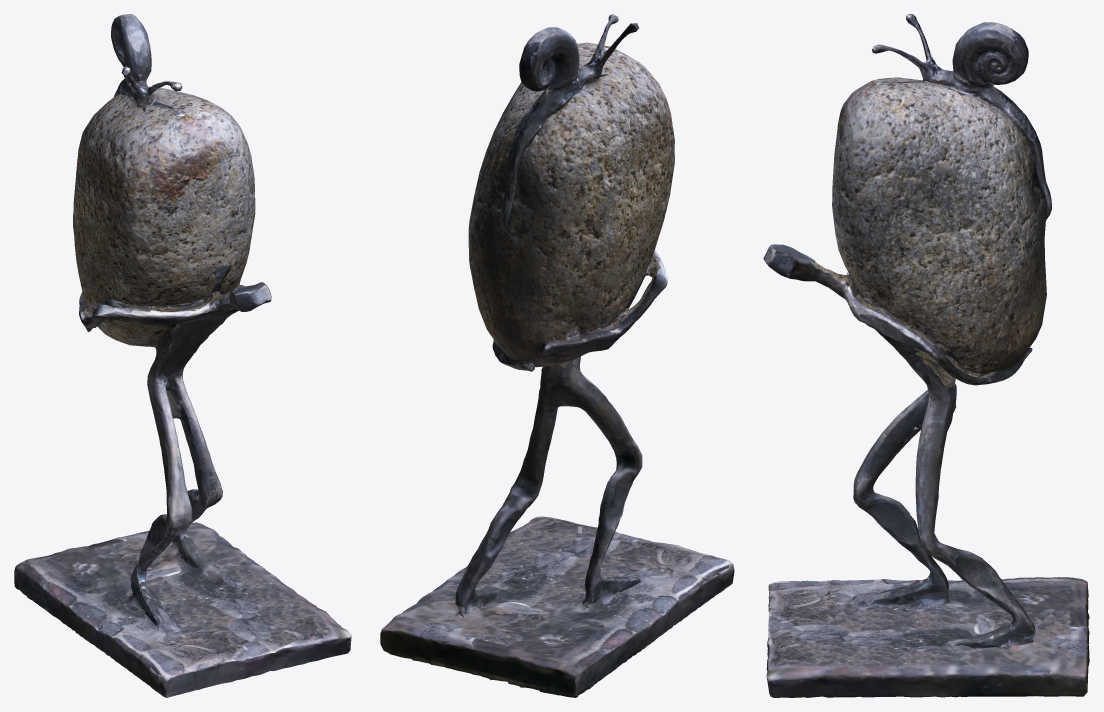
Rendered from rock_carrier.glb.
3 views of the same model, side by side, from view 1: azimuth 30°, elevation 25°; view 2: azimuth 150°, elevation 25°; view 3: azimuth 270°, elevation 25° (orthographic). The views are drawn at different scales.
Parts seen in each view (by area): view 1: model.001; view 2: model.001; view 3: model.001.
Boxes of the visible parts, left/top/right/bottom form: model.001: left=14, top=14, right=351, bottom=697; model.001: left=380, top=14, right=734, bottom=697; model.001: left=763, top=14, right=1089, bottom=697.
Bounding box in the file's own units: 0.2121 × 0.6229 × 0.2992.
1 material, 1 textured.
